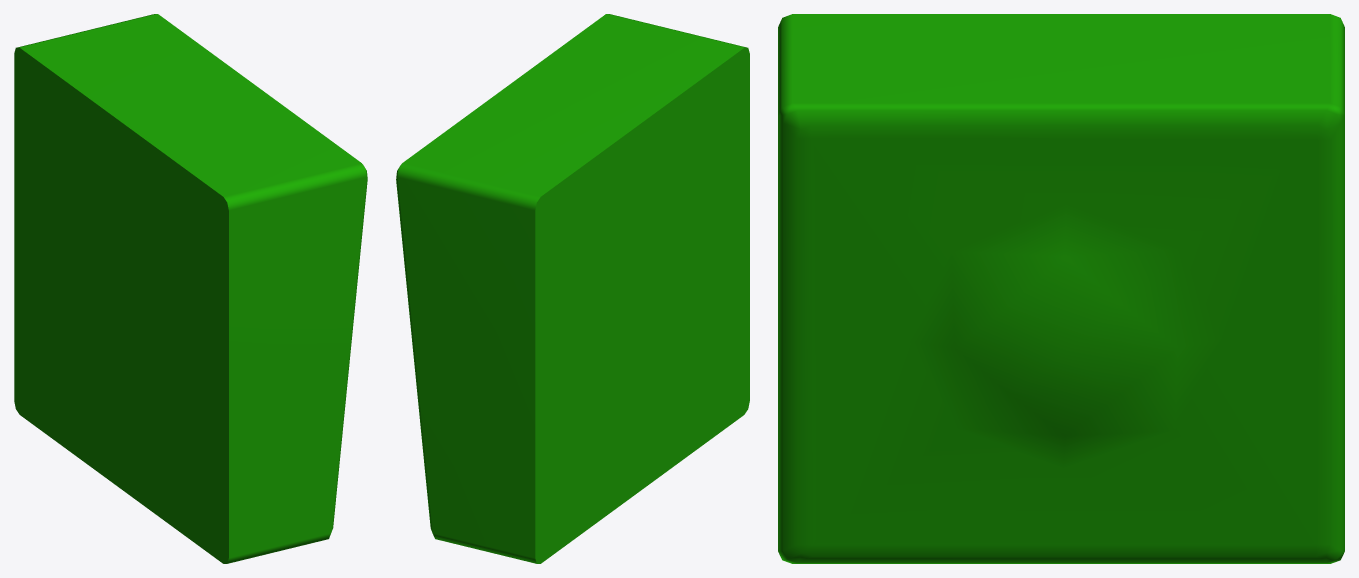
File: SM_Intercom_01a.FBX
The picture shows the model from 3 angles, left to right: view 1: azimuth 30°, elevation 25°; view 2: azimuth 150°, elevation 25°; view 3: azimuth 270°, elevation 25°; orthographic projection. The views are drawn at different scales.
Parts seen in each view (by area): view 1: SM_Intercom_01a_LOD0; view 2: SM_Intercom_01a_LOD0; view 3: SM_Intercom_01a_LOD0.
Part boxes in pixels (left/top/right/bottom): SM_Intercom_01a_LOD0: left=14, top=14, right=367, bottom=563; SM_Intercom_01a_LOD0: left=396, top=14, right=749, bottom=563; SM_Intercom_01a_LOD0: left=778, top=14, right=1344, bottom=563.
Size of what is drawn, in the model's own units: 10.27 by 24.96 by 26.46.
